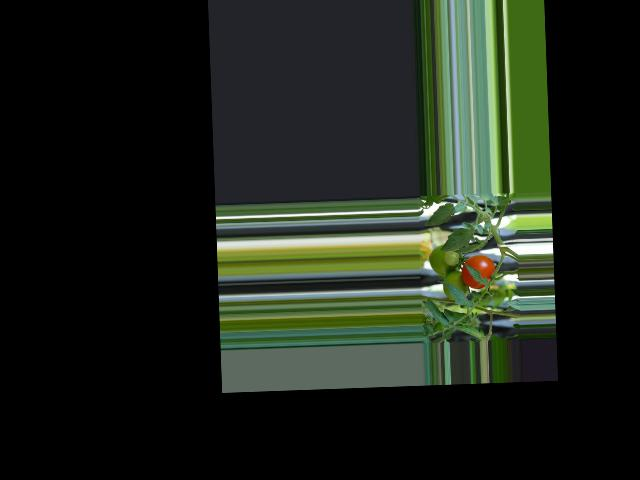tomato: (461, 253, 495, 289)
